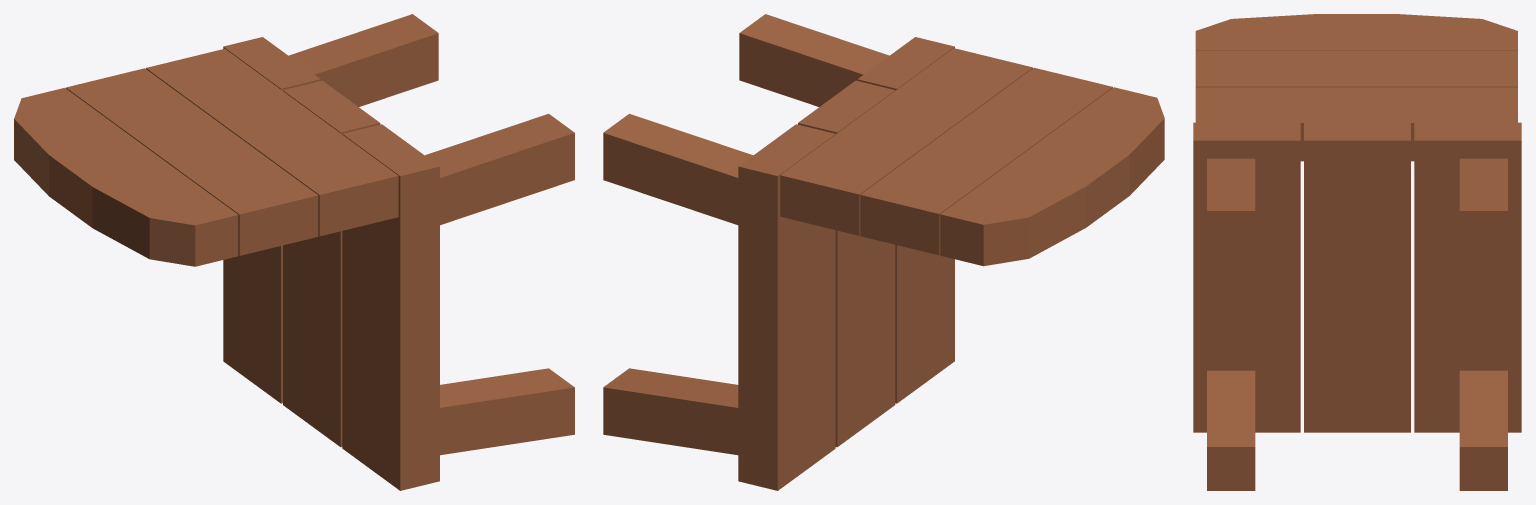
The model's file is chair.obj.
The picture shows the model from 3 angles, left to right: view 1: azimuth 30°, elevation 25°; view 2: azimuth 150°, elevation 25°; view 3: azimuth 270°, elevation 25°; orthographic projection. The views are drawn at different scales.
Parts seen in each view (by area): view 1: chair; view 2: chair; view 3: chair.
Part boxes in pixels (left/top/right/bottom): chair: left=14, top=14, right=574, bottom=490; chair: left=603, top=14, right=1164, bottom=490; chair: left=1193, top=14, right=1521, bottom=490.
Size of the model in its own units: 0.3791 by 0.2695 by 0.2747.
